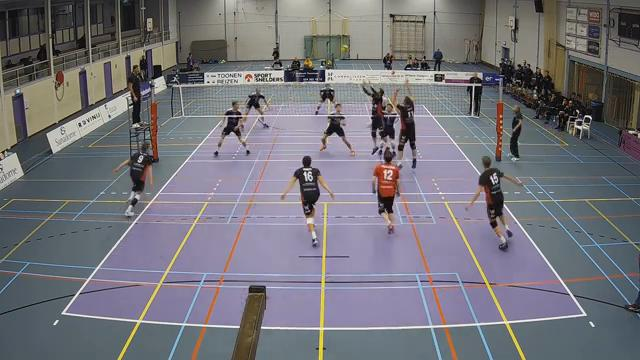Player: (466, 156, 523, 250), (281, 156, 333, 246), (114, 143, 152, 216), (372, 149, 399, 233), (392, 81, 416, 168), (214, 101, 249, 155), (320, 104, 354, 155), (379, 103, 397, 156), (243, 89, 268, 127), (315, 84, 334, 114)
Set: (356, 75, 388, 157)
ball: (341, 45, 347, 51)
